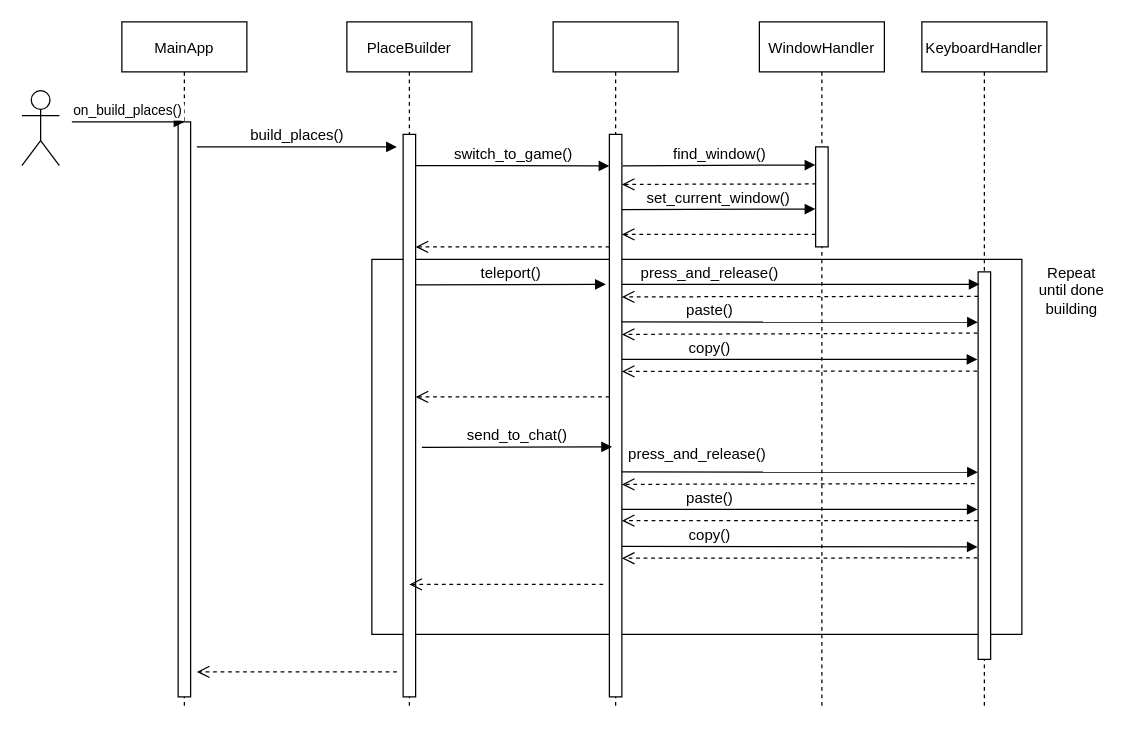
The diagram is 1131 pixels wide and 731 high, and some of its shapes have lost their labels. The shapes that lost their labels are listed below. From the top down, each one's box as (x1, y1, x2, y2) in pixels, then its label:
(21, 89, 59, 166): User
(552, 21, 678, 709): GameAutomator
